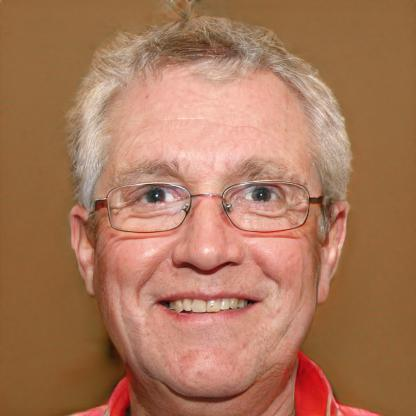glasses: (100, 176, 320, 238)
